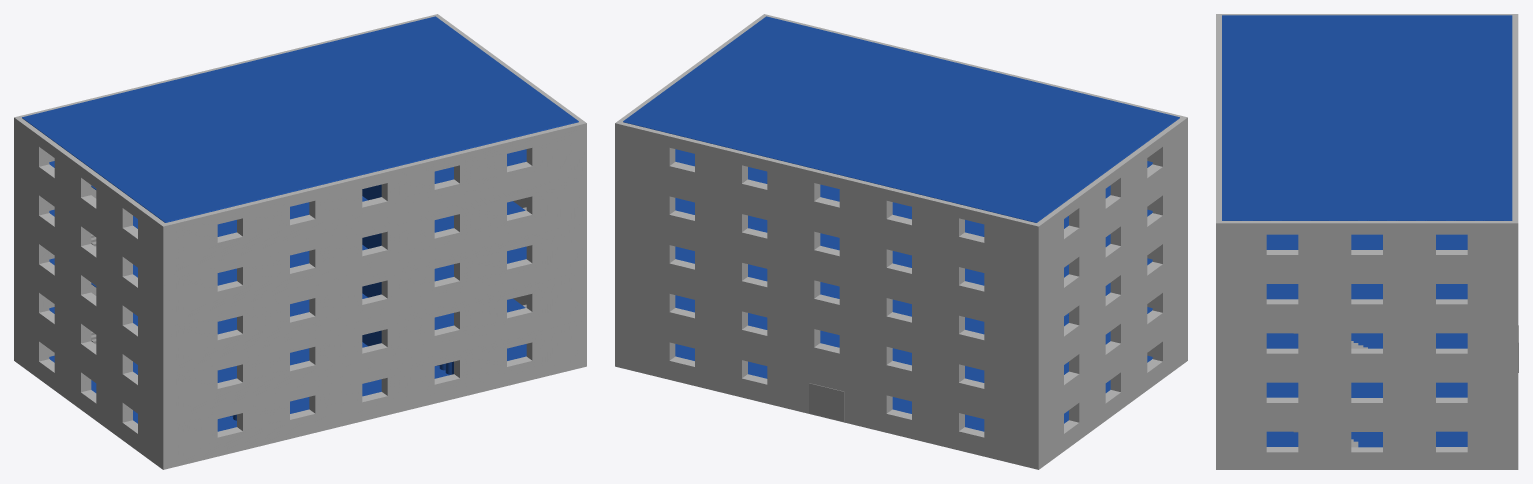
Rendered from B4_floored.fbx.
3 views of the same model, side by side, from view 1: azimuth 30°, elevation 25°; view 2: azimuth 150°, elevation 25°; view 3: azimuth 270°, elevation 25° (orthographic).
Parts seen in each view (by area): view 1: pPlane2, pCube29, pCube22, pCube27, pCube12, pCube25, Wall29, Wall25, Wall22, Wall27, Wall23, Floor7 (×2) (+5 smaller); view 2: pPlane2, pCube28, pCube26, pCube24, pCube23, pCube18, Wall29, Wall25, Wall23, Wall22, Wall27, Floor7 (×2) (+6 smaller); view 3: pPlane2, Wall21, Wall30, Wall24, Wall28, Wall26, Floor7 (×2), pCube28, pCube29, Floor2, Floor8, pPlane1 (+6 smaller).
Boxes of the visible parts, x1,y1,x2,y2 form: pPlane2: [22, 16, 578, 222]; pCube29: [157, 119, 586, 274]; pCube22: [157, 269, 586, 421]; pCube27: [157, 172, 586, 322]; pCube12: [157, 318, 586, 469]; pCube25: [157, 220, 586, 371]; Wall29: [14, 115, 173, 274]; Wall25: [14, 215, 173, 372]; Wall22: [14, 312, 173, 469]; Wall27: [14, 166, 173, 323]; Wall23: [14, 264, 173, 420]; Floor7 (×2): [49, 149, 526, 285]; pPlane2: [623, 16, 1179, 222]; pCube28: [615, 119, 1044, 274]; pCube26: [615, 172, 1043, 323]; pCube24: [615, 220, 1044, 371]; pCube23: [615, 269, 1044, 421]; pCube18: [615, 318, 1044, 469]; Wall29: [1028, 115, 1187, 275]; Wall25: [1028, 215, 1187, 372]; Wall23: [1028, 263, 1187, 420]; Wall22: [1028, 312, 1187, 469]; Wall27: [1028, 166, 1187, 323]; Floor7 (×2): [675, 149, 1152, 285]; pPlane2: [1222, 15, 1512, 220]; Wall21: [1216, 420, 1518, 469]; Wall30: [1216, 218, 1518, 272]; Wall24: [1216, 371, 1518, 420]; Wall28: [1216, 272, 1518, 321]; Wall26: [1216, 322, 1518, 371]; Floor7 (×2): [1266, 234, 1467, 299]; pCube28: [1506, 14, 1518, 272]; pCube29: [1216, 14, 1227, 272]; Floor2: [1266, 382, 1467, 397]; Floor8: [1266, 333, 1467, 348]; pPlane1: [1266, 431, 1467, 447].
Bounding box in the file's own units: 41 × 22.61 × 25.05.
